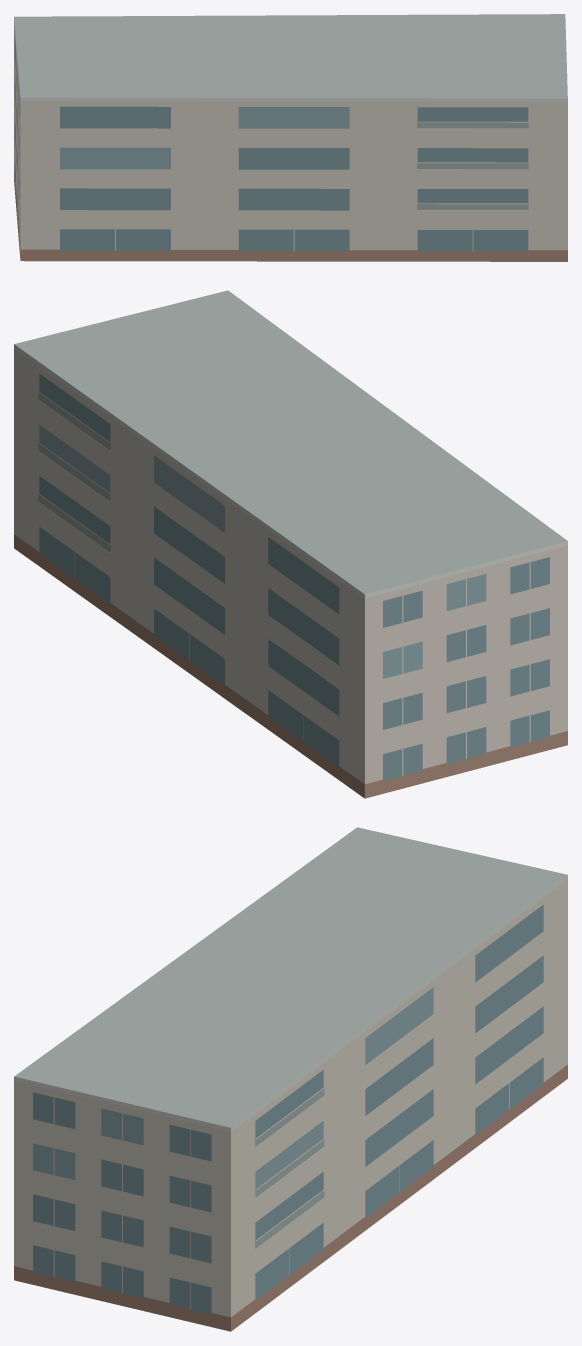
File: survey-upis-33002768.glb
The picture shows the model from 3 angles, top to bottom: view 1: azimuth 30°, elevation 25°; view 2: azimuth 150°, elevation 25°; view 3: azimuth 270°, elevation 25°; orthographic projection. The views are drawn at different scales.
Visible parts, largest first — view 1: survey-upis-33002768.tmp; view 2: survey-upis-33002768.tmp; view 3: survey-upis-33002768.tmp.
Boxes of the visible parts, bbox=[...] form: survey-upis-33002768.tmp: bbox=[14, 14, 567, 261]; survey-upis-33002768.tmp: bbox=[14, 290, 567, 798]; survey-upis-33002768.tmp: bbox=[14, 827, 567, 1331].
Bounding box in the file's own units: 35.75 × 11.3 × 27.84.
